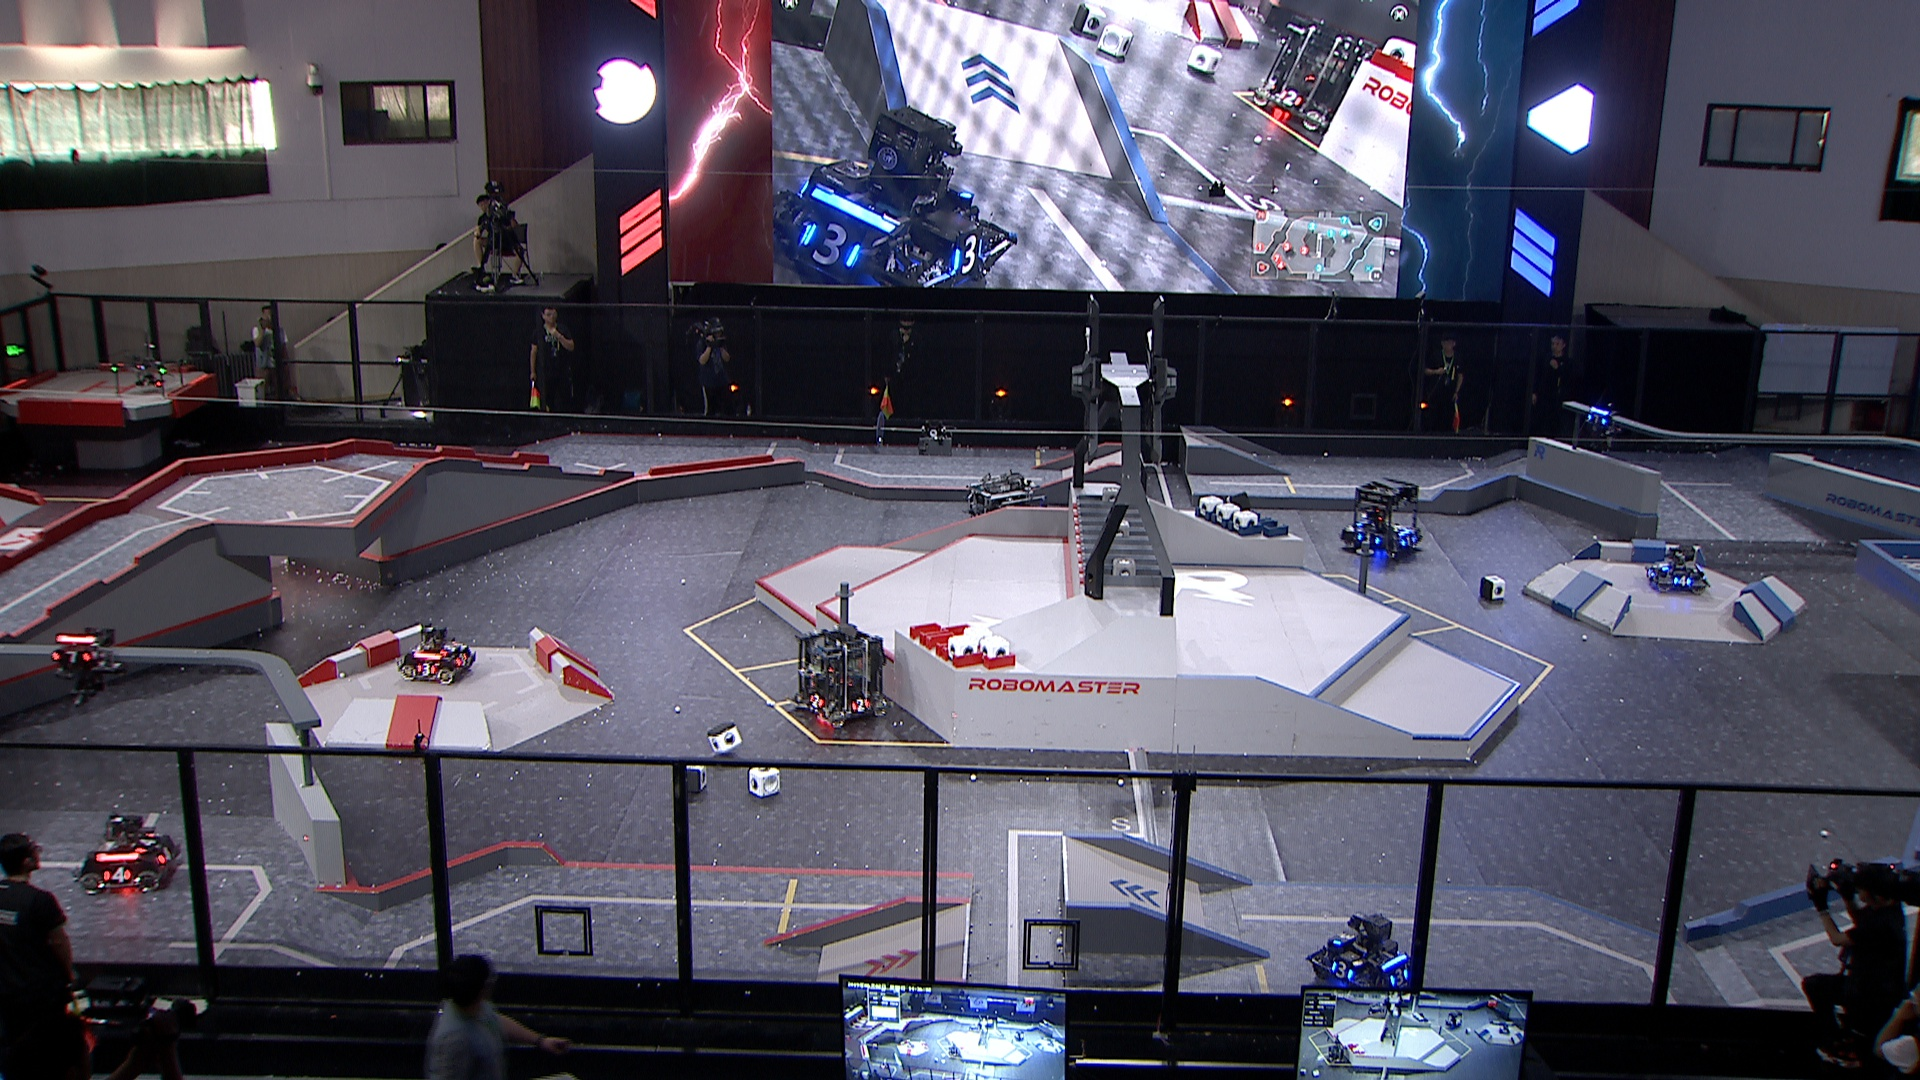armor: (50, 647, 90, 662), (135, 832, 158, 853), (102, 868, 135, 882), (1329, 960, 1354, 978), (1335, 927, 1356, 945), (414, 661, 436, 678), (1389, 968, 1408, 986), (1356, 531, 1379, 546), (1586, 411, 1607, 427), (851, 698, 870, 712), (442, 640, 458, 655), (161, 845, 175, 862), (808, 690, 823, 705), (456, 651, 471, 666), (1673, 576, 1693, 585), (1656, 560, 1671, 572), (1644, 568, 1656, 583), (1399, 534, 1414, 546)
car: (785, 622, 891, 731), (71, 807, 187, 893), (1309, 907, 1415, 998), (1338, 476, 1424, 564), (963, 469, 1048, 546), (394, 617, 477, 687), (1643, 538, 1712, 595)
ignore: (769, 105, 1013, 301), (1249, 12, 1367, 142), (1324, 1040, 1354, 1067), (1366, 998, 1393, 1021), (1443, 1007, 1466, 1030), (945, 1044, 961, 1062), (1011, 1029, 1025, 1043), (1498, 1021, 1513, 1034)
watcher: (44, 622, 125, 705), (1577, 394, 1623, 452)
